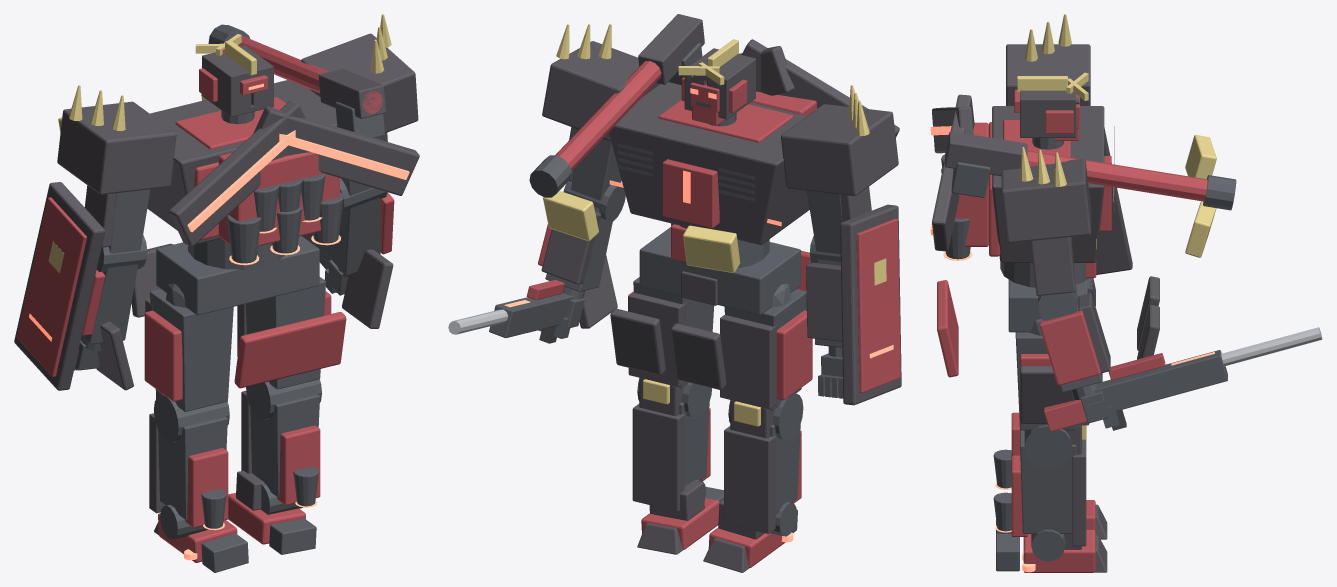
The model's file is mech_g4.glb.
3 renders of one model, left to right at view 1: azimuth 30°, elevation 25°; view 2: azimuth 150°, elevation 25°; view 3: azimuth 270°, elevation 25°, orthographic. The views are drawn at different scales.
Parts seen in each view (by area): view 1: pauldron, pelvis, shield_rim, skirt_rear, thigh, chest, wing, wing.001, shield, pauldron.001, backpack, shin (+44 smaller); view 2: chest, pauldron, shield_rim, pelvis, pauldron.001, shin_plate.001, shin_plate, thigh_plate, shield, cockpit, cannon_barrel, skirt_front.001 (+40 smaller); view 3: pauldron.001, chest, rifle_body, shin.001, cannon_barrel, forearm_side.001, pauldron, cannon_body, upper_arm_plate.001, skirt_side.001, skull, shield (+32 smaller).
Part boxes in pixels (<box>): pauldron: <box>57,101,176,194</box>; pelvis: <box>156,236,319,315</box>; shield_rim: <box>16,197,86,376</box>; skirt_rear: <box>234,312,346,388</box>; thigh: <box>149,289,233,411</box>; chest: <box>147,80,337,244</box>; wing: <box>253,106,419,195</box>; wing.001: <box>169,100,305,246</box>; shield: <box>14,182,104,390</box>; pauldron.001: <box>301,33,418,133</box>; backpack: <box>218,152,339,246</box>; shin: <box>158,416,227,519</box>; chest: <box>609,82,809,244</box>; pauldron: <box>781,104,898,195</box>; shield_rim: <box>856,218,900,392</box>; pelvis: <box>639,227,800,314</box>; pauldron.001: <box>542,41,658,141</box>; shin_plate.001: <box>632,404,684,511</box>; shin_plate: <box>724,426,775,533</box>; thigh_plate: <box>720,315,776,409</box>; shield: <box>840,204,901,405</box>; cockpit: <box>662,159,719,228</box>; cannon_barrel: <box>555,61,661,170</box>; skirt_front.001: <box>610,308,665,375</box>; pauldron.001: <box>1001,159,1091,243</box>; chest: <box>992,106,1104,262</box>; rifle_body: <box>1094,350,1227,411</box>; shin.001: <box>1020,430,1076,533</box>; cannon_barrel: <box>1027,150,1207,201</box>; forearm_side.001: <box>1039,310,1100,385</box>; pauldron: <box>1006,44,1090,105</box>; cannon_body: <box>945,131,1027,176</box>; upper_arm_plate.001: <box>1030,237,1075,295</box>; skirt_side.001: <box>1020,366,1074,423</box>; skull: <box>1020,79,1076,137</box>; shield: <box>1096,127,1132,274</box>.
Bounding box in the file's own units: 13.44 × 18.41 × 13.89.
